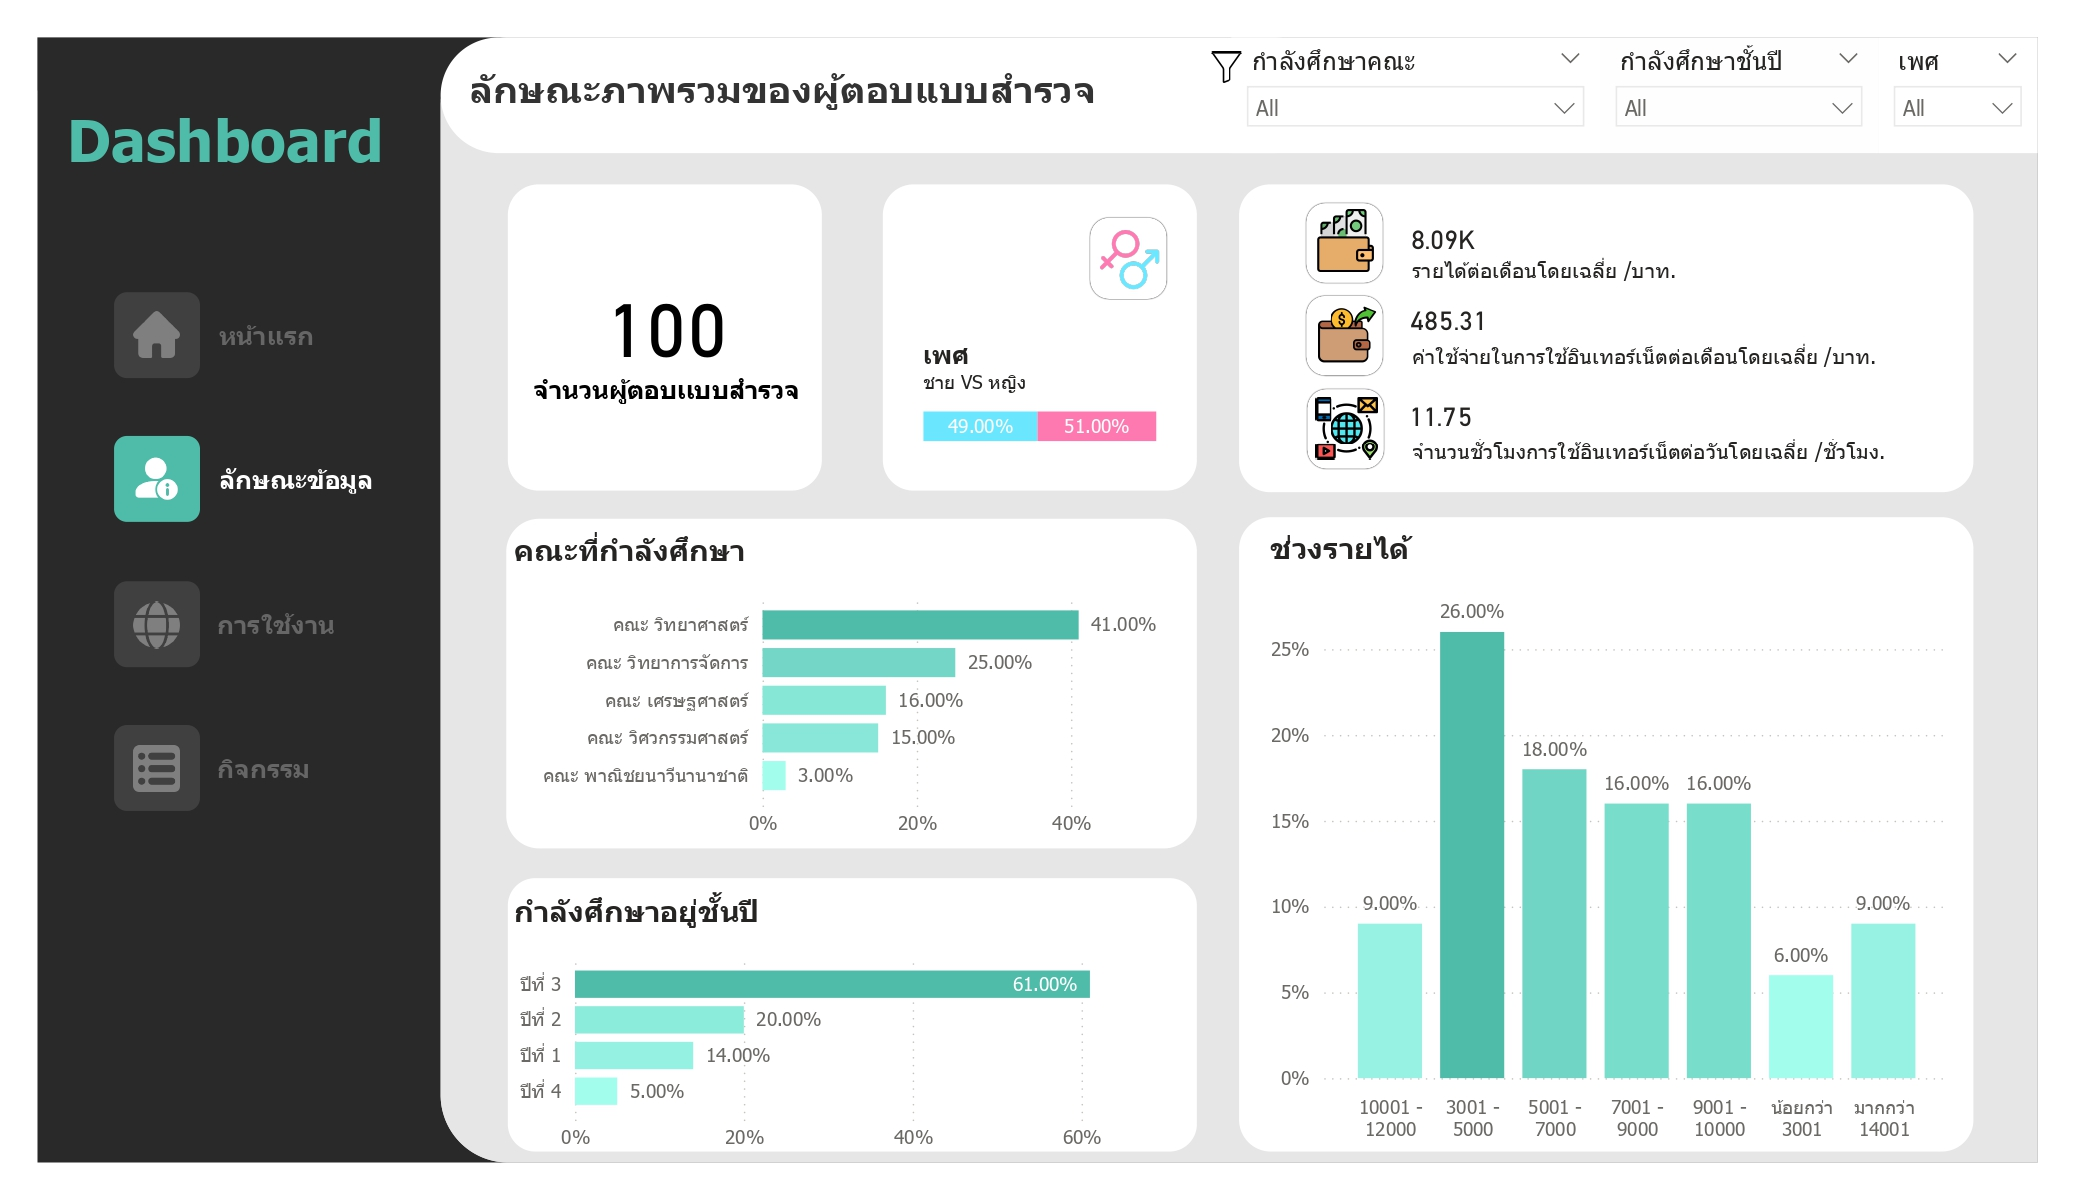

The dashboard page shown, as its layout file describes it:
{"tool":"powerbi","page":{"name":"ลักษณะผู้ตอบเเบบสอบถาม","canvas":[1280,720],"ordinal":1},"visuals":[{"type":"shape","box":[258,0,1022,720],"z":0},{"type":"shape","box":[300.9,93.6,200.9,196.4],"z":1000},{"type":"shape","box":[540.9,93.6,200.9,196.4],"z":2000},{"type":"shape","box":[769.1,93.6,470,197.3],"z":3000},{"type":"shape","box":[300,307.5,441.7,211.7],"z":4000},{"type":"shape","box":[769.1,307.3,470,405.5],"z":5000},{"type":"shape","box":[673.3,114.2,50.8,53.3],"z":6000},{"type":"barChart","title":"คณะที่กำลังศึกษา","fields":{"Category":["normalized_dataset.กำลังศึกษาคณะ"],"Y":["CountNonNull(normalized_dataset.กำลังศึกษาคณะ)"]},"box":[300,315.6,441.1,203.3],"z":7000},{"type":"card","title":"จำนวนผู้ตอบเเบบสำรวจ","fields":{"Values":["normalized_dataset.TotalRowCount"]},"box":[300.9,131.8,202.7,119.1],"z":8000},{"type":"hundredPercentStackedBarChart","title":"ชาย VS หญิง","fields":{"Y":["CountNonNull(normalized_dataset.เพศ)"],"Series":["normalized_dataset.เพศ"]},"box":[561.5,200.8,159.2,89.2],"z":9000},{"type":"textbox","box":[561.7,187.5,154.2,50.8],"z":10000},{"type":"image","box":[674.3,116.4,50,51.4],"z":11000},{"type":"shape","box":[300.8,537.5,440.8,175.8],"z":12000},{"type":"barChart","title":"กำลังศึกษาอยู่ชั้นปี","fields":{"Category":["normalized_dataset.กำลังศึกษาชั้นปี"],"Y":["CountNonNull(normalized_dataset.กำลังศึกษาชั้นปี)"]},"box":[300,546.7,441.1,173.3],"z":13000},{"type":"shape","box":[810.9,104.5,50.9,53.6],"z":14000},{"type":"shape","box":[810.9,163.6,50.9,53.6],"z":15000},{"type":"shape","box":[811.8,223.6,50.9,53.6],"z":16000},{"type":"image","box":[811.8,105.5,50,50],"z":17000},{"type":"image","box":[812.7,165.5,50,50],"z":18000},{"type":"image","box":[812.7,225.5,50,50],"z":19000},{"type":"card","fields":{"Values":["Avg(normalized_dataset.รายได้ต่อเดือน)"]},"box":[812,105,175,50],"z":20000},{"type":"card","fields":{"Values":["Avg(normalized_dataset.ค่าใช้จ่ายในการใช้อินเทอร์เน็ตต่อเดือน)"]},"box":[869,157,68,50],"z":21000},{"type":"card","fields":{"Values":["Avg(normalized_dataset.จํานวนชั่วโมงการใช้อินเทอร์เน็ตต่อวัน)"]},"box":[869,218,58,50],"z":22000},{"type":"textbox","box":[875,136,226,38],"z":23000},{"type":"textbox","box":[875,191,323,38],"z":24000},{"type":"textbox","box":[875,252,368,38],"z":25000},{"type":"columnChart","title":"ช่วงรายได้","fields":{"Category":["normalized_dataset.ช่วงรายได้ต่อเดือน"],"Y":["CountNonNull(normalized_dataset.ช่วงรายได้ต่อเดือน)"]},"box":[783.6,315.5,445.5,397.3],"z":26000},{"type":"slicer","fields":{"Values":["normalized_dataset.กำลังศึกษาชั้นปี"]},"box":[1000,0,177.8,74.4],"z":27000},{"type":"shape","box":[257.8,0,571.1,74.4],"z":28000},{"type":"slicer","fields":{"Values":["normalized_dataset.เพศ"]},"box":[1177.8,0,102.2,74.4],"z":29000},{"type":"slicer","fields":{"Values":["normalized_dataset.กำลังศึกษาคณะ"]},"box":[764.4,0,235.6,74.4],"z":30000},{"type":"textbox","box":[271.1,13.3,462.2,70],"z":31000},{"type":"image","box":[742.7,3.6,36.4,30],"z":32000},{"type":"textbox","box":[13.6,37.9,234.4,67.1],"z":33000},{"type":"shape","box":[49.2,255,55,55],"z":34000},{"type":"shape","box":[49.2,347.5,55,55],"z":35000},{"type":"shape","box":[49.2,440,55,55],"z":36000},{"type":"shape","box":[49.2,162.5,55,55],"z":37000},{"type":"image","box":[56.1,355.2,40.3,40.3],"z":38000},{"type":"image","box":[56.1,447.3,40.3,40.3],"z":39000},{"type":"actionButton","box":[111.5,354.8,149.1,40.5],"z":40000},{"type":"actionButton","box":[111.5,447.4,149.1,40.5],"z":41000},{"type":"actionButton","box":[111.9,261.6,148.8,40.9],"z":42000},{"type":"image","box":[56.4,170.2,39.9,39.9],"z":43000},{"type":"actionButton","box":[111.9,170.2,148.8,40.9],"z":44000},{"type":"image","box":[56.4,261.6,39.9,39.9],"z":45000}]}

Visuals, with their boxes on the page's 1280x720 design canvas (x1, y1, x2, y2). These are canvas units, not pixel positions in the 2075x1200 screenshot, which may show the page scaled, cropped or inside an application window:
shape: rect(258, 0, 1280, 720)
shape: rect(301, 94, 502, 290)
shape: rect(541, 94, 742, 290)
shape: rect(769, 94, 1239, 291)
shape: rect(300, 308, 742, 519)
shape: rect(769, 307, 1239, 713)
shape: rect(673, 114, 724, 168)
"คณะที่กำลังศึกษา" barChart: rect(300, 316, 741, 519)
"จำนวนผู้ตอบเเบบสำรวจ" card: rect(301, 132, 504, 251)
"ชาย VS หญิง" hundredPercentStackedBarChart: rect(562, 201, 721, 290)
textbox: rect(562, 188, 716, 238)
image: rect(674, 116, 724, 168)
shape: rect(301, 538, 742, 713)
"กำลังศึกษาอยู่ชั้นปี" barChart: rect(300, 547, 741, 720)
shape: rect(811, 104, 862, 158)
shape: rect(811, 164, 862, 217)
shape: rect(812, 224, 863, 277)
image: rect(812, 106, 862, 156)
image: rect(813, 166, 863, 216)
image: rect(813, 226, 863, 276)
card - Avg(normalized_dataset.รายได้ต่อเดือน): rect(812, 105, 987, 155)
card - Avg(normalized_dataset.ค่าใช้จ่ายในการใช้อินเทอร์เน็ตต่อเดือน): rect(869, 157, 937, 207)
card - Avg(normalized_dataset.จํานวนชั่วโมงการใช้อินเทอร์เน็ตต่อวัน): rect(869, 218, 927, 268)
textbox: rect(875, 136, 1101, 174)
textbox: rect(875, 191, 1198, 229)
textbox: rect(875, 252, 1243, 290)
"ช่วงรายได้" columnChart: rect(784, 316, 1229, 713)
slicer - normalized_dataset.กำลังศึกษาชั้นปี: rect(1000, 0, 1178, 74)
shape: rect(258, 0, 829, 74)
slicer - normalized_dataset.เพศ: rect(1178, 0, 1280, 74)
slicer - normalized_dataset.กำลังศึกษาคณะ: rect(764, 0, 1000, 74)
textbox: rect(271, 13, 733, 83)
image: rect(743, 4, 779, 34)
textbox: rect(14, 38, 248, 105)
shape: rect(49, 255, 104, 310)
shape: rect(49, 348, 104, 402)
shape: rect(49, 440, 104, 495)
shape: rect(49, 162, 104, 218)
image: rect(56, 355, 96, 396)
image: rect(56, 447, 96, 488)
actionButton: rect(112, 355, 261, 395)
actionButton: rect(112, 447, 261, 488)
actionButton: rect(112, 262, 261, 302)
image: rect(56, 170, 96, 210)
actionButton: rect(112, 170, 261, 211)
image: rect(56, 262, 96, 302)
